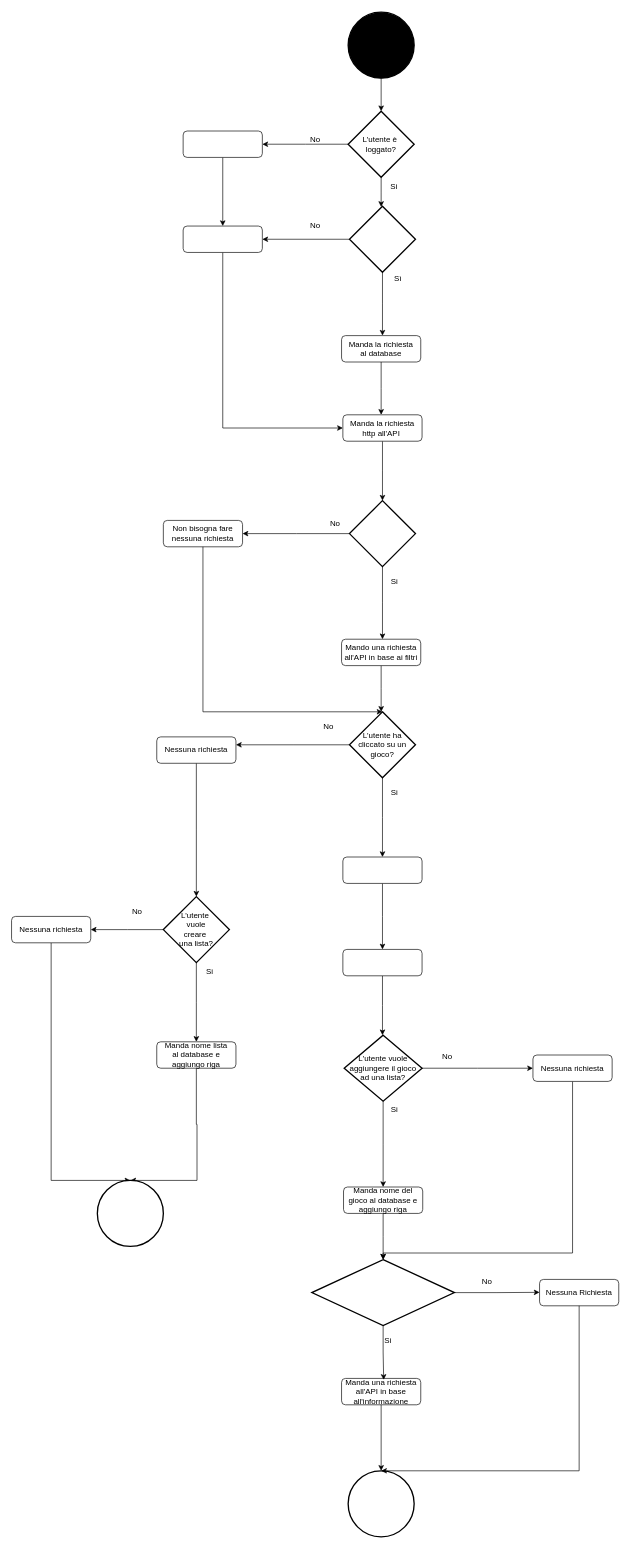
Image size: 630x1548. Some labels were removed from this diagram. Each missing label, with the centre of its shape:
Carica l'interfaccia per il gioco: point 382,962
Ci sono dei filtri attivi?: point 382,533
Ha creato delle liste?: point 382,239
L'utente vuole una pagina delle informazioni aggiuntive?: point 383,1292
Manda una richiesta all'API in base al gioco: point 382,869
Non c'è bisogno della richiesta al database: point 222,238
Non può creare liste: point 222,143
